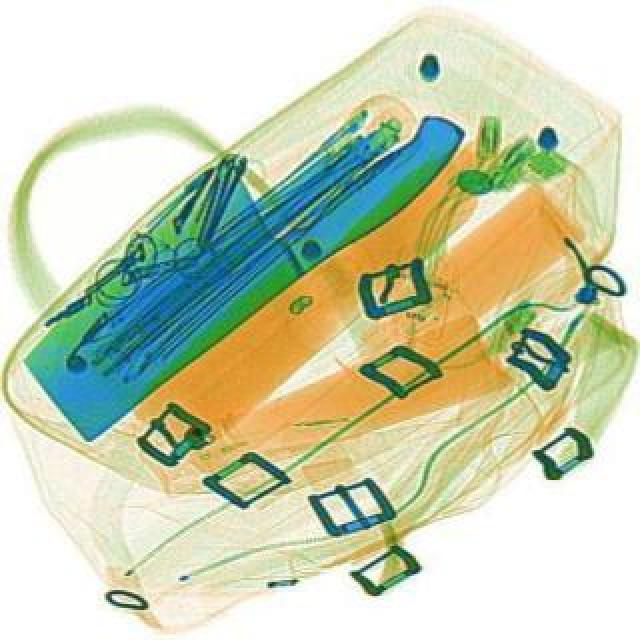knife: (0, 46, 478, 450)
